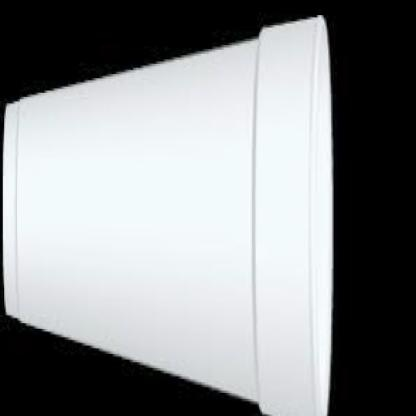trash: (3, 17, 332, 415)
